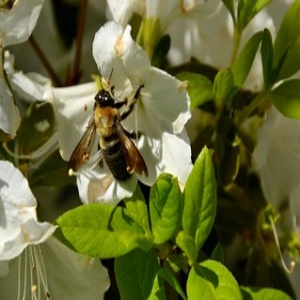bee: (66, 63, 153, 190)
